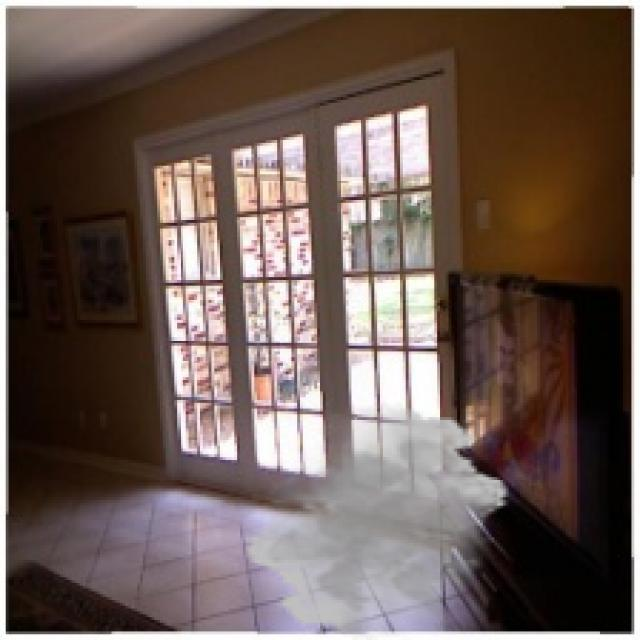Smoke: (242, 402, 514, 638)
